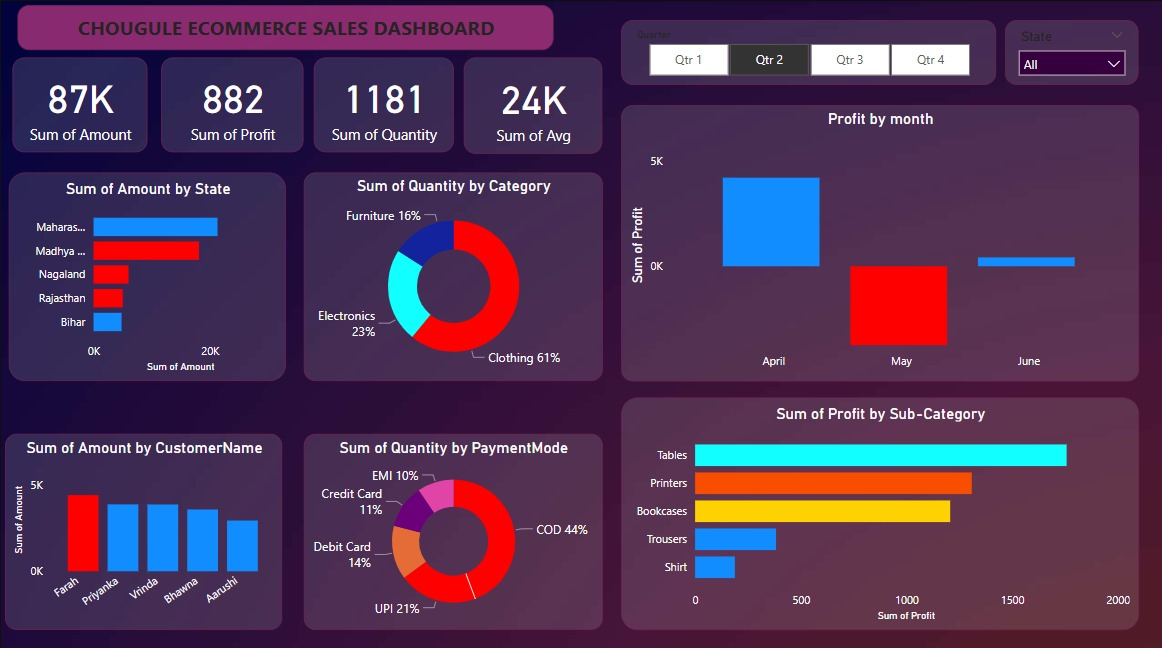

This screenshot's page, from the dashboard's own definition file:
{"tool":"powerbi","page":{"name":"Page 1","canvas":[1280,720],"ordinal":0},"visuals":[{"type":"textbox","box":[19.2,5.5,588.2,49.4],"z":0},{"type":"columnChart","title":"Profit by month","fields":{"Category":["Orders.Order Date.Variation.Date Hierarchy.Month"],"Y":["Sum(Details.Profit)"]},"box":[681.4,115.2,567.6,303],"z":1000},{"type":"barChart","fields":{"Category":["Details.Sub-Category"],"Y":["Sum(Details.Profit)"]},"box":[681.4,436,567.6,255],"z":2000},{"type":"donutChart","fields":{"Category":["Details.Category"],"Y":["Sum(Details.Quantity)"]},"box":[333.2,189.2,327.7,229],"z":3000},{"type":"donutChart","fields":{"Category":["Details.PaymentMode"],"Y":["Sum(Details.Quantity)"]},"box":[333.2,475.8,327.7,215.3],"z":4000},{"type":"card","fields":{"Values":["Sum(Details.Amount)"]},"box":[13.7,63.1,148.1,104.2],"z":5000},{"type":"card","fields":{"Values":["Sum(Details.Profit)"]},"box":[176.9,63.1,156.3,104.2],"z":6000},{"type":"card","fields":{"Values":["Sum(Details.Quantity)"]},"box":[344.1,63.1,153.6,104.2],"z":7000},{"type":"card","fields":{"Values":["Sum(Details.Avg)"]},"box":[508.7,63.1,152.2,105.6],"z":8000},{"type":"barChart","fields":{"Category":["Orders.State"],"Y":["Sum(Details.Amount)"]},"box":[9.6,189.2,304.4,229],"z":9000},{"type":"columnChart","fields":{"Category":["Orders.CustomerName"],"Y":["Sum(Details.Amount)"]},"box":[5.5,475.8,304.4,215.3],"z":10000},{"type":"slicer","fields":{"Values":["Orders.Order Date.Variation.Date Hierarchy.Quarter"]},"box":[681.4,21.9,411.3,71.3],"z":11000},{"type":"slicer","fields":{"Values":["Orders.State"]},"box":[1102.3,21.9,146.7,71.3],"z":12000}]}

Visuals, with their boxes in screenshot pixels (x1, y1, x2, y2), scaled from the page's 1280x720 canvas onto the 1162x648 screenshot:
textbox: bbox=(17, 5, 551, 49)
"Profit by month" columnChart: bbox=(619, 104, 1134, 376)
barChart - Details.Sub-Category x Sum(Details.Profit): bbox=(619, 392, 1134, 622)
donutChart - Details.Category x Sum(Details.Quantity): bbox=(302, 170, 600, 376)
donutChart - Details.PaymentMode x Sum(Details.Quantity): bbox=(302, 428, 600, 622)
card - Sum(Details.Amount): bbox=(12, 57, 147, 151)
card - Sum(Details.Profit): bbox=(161, 57, 302, 151)
card - Sum(Details.Quantity): bbox=(312, 57, 452, 151)
card - Sum(Details.Avg): bbox=(462, 57, 600, 152)
barChart - Orders.State x Sum(Details.Amount): bbox=(9, 170, 285, 376)
columnChart - Orders.CustomerName x Sum(Details.Amount): bbox=(5, 428, 281, 622)
slicer - Orders.Order Date.Variation.Date Hierarchy.Quarter: bbox=(619, 20, 992, 84)
slicer - Orders.State: bbox=(1001, 20, 1134, 84)
